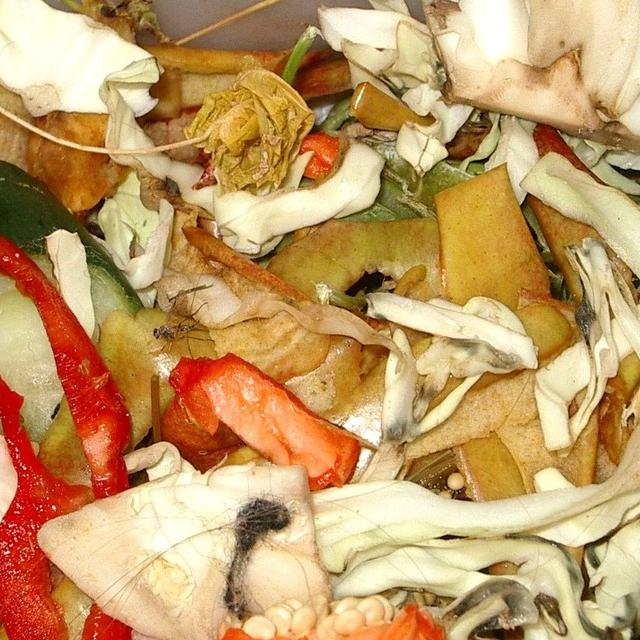food_waste: (53, 449, 342, 619), (0, 160, 140, 459), (0, 408, 178, 640), (320, 465, 640, 581), (496, 133, 640, 353), (182, 333, 355, 476), (317, 0, 474, 150), (160, 563, 464, 640), (201, 85, 354, 207), (477, 0, 640, 88), (0, 71, 89, 165)
